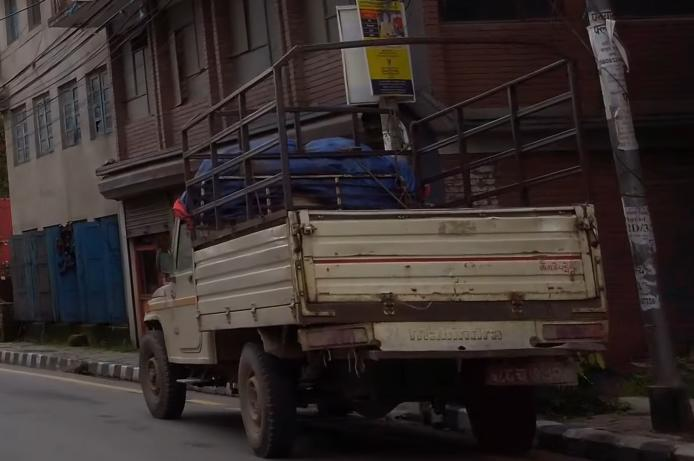transport_vehicle: (116, 30, 619, 461)
